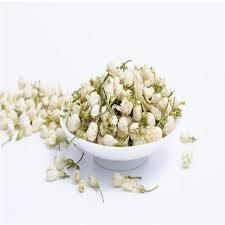jasmine: (0, 31, 199, 196)
